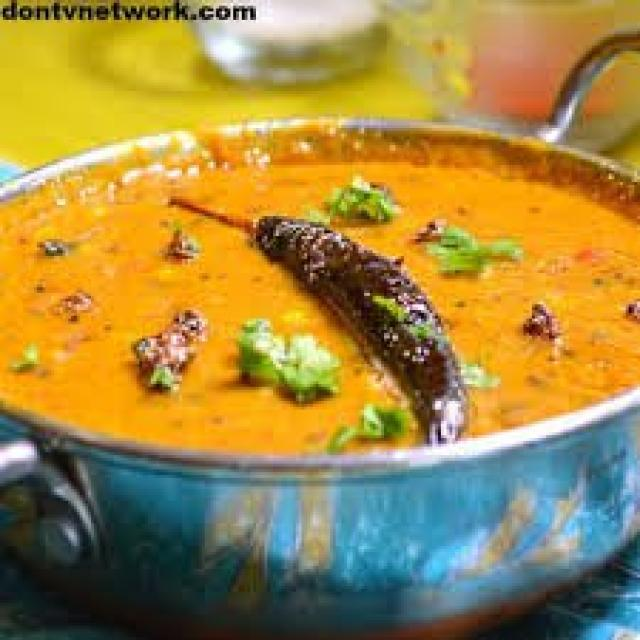dal: (25, 157, 615, 413)
